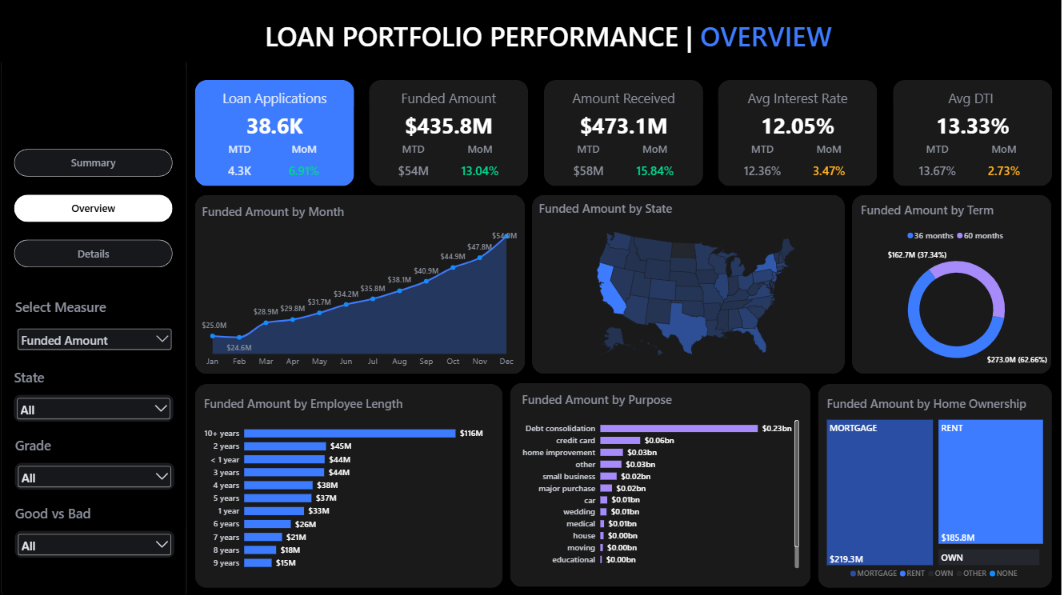

What the dashboard file says about the page in this screenshot:
{"tool":"powerbi","page":{"name":"Overview","canvas":[1920,1080],"ordinal":1},"visuals":[{"type":"shape","box":[2.1,104.3,336,976],"z":0},{"type":"shape","box":[352,144,288,192],"z":0,"group":"g2"},{"type":"shape","box":[668,144,288,192],"z":0,"group":"g3"},{"type":"shape","box":[984,144,288,192],"z":0,"group":"g4"},{"type":"shape","box":[1300,144,288,192],"z":0,"group":"g5"},{"type":"shape","box":[1616,144,288,192],"z":0,"group":"g6"},{"type":"shape","box":[964.3,352.7,566,323.5],"z":0,"group":"g12"},{"type":"shape","box":[1542.3,352.7,361,323.5],"z":0,"group":"g13"},{"type":"shape","box":[352.9,352.9,597,324],"z":0,"group":"g11"},{"type":"textbox","box":[26.8,540,288,35.5],"z":0,"group":"g1"},{"type":"slicer","fields":{"Values":["Select Measure.Select Measure"]},"box":[26.8,590.1,288,48],"z":0,"group":"g10"},{"type":"shape","box":[923.7,693.3,544,369.2],"z":0,"group":"g16"},{"type":"shape","box":[352.9,694.9,557,369.2],"z":0,"group":"g14"},{"type":"shape","box":[1480.3,694.9,423.5,369.2],"z":0,"group":"g15"},{"type":"slicer","fields":{"Values":["bank_loan.address_state"]},"box":[25,713.3,288,48],"z":0,"group":"g7"},{"type":"slicer","fields":{"Values":["bank_loan.grade"]},"box":[26.8,836.3,288,48],"z":0,"group":"g8"},{"type":"slicer","fields":{"Values":["bank_loan.Good vs Bad Loan"]},"box":[26.8,959.9,288,48],"z":0,"group":"g9"},{"type":"shape","box":[0,0,1920,112],"z":1000},{"type":"cardVisual","fields":{"Data":["bank_loan.Applications"]},"box":[352,192,288,64],"z":1000,"group":"g2"},{"type":"cardVisual","fields":{"Data":["bank_loan.Funded Amount"]},"box":[668,192,288,64],"z":1000,"group":"g3"},{"type":"cardVisual","fields":{"Data":["bank_loan.Amount Received"]},"box":[984,192,288,64],"z":1000,"group":"g4"},{"type":"cardVisual","fields":{"Data":["bank_loan.Avg Interest Rate"]},"box":[1300,192,288,64],"z":1000,"group":"g5"},{"type":"cardVisual","fields":{"Data":["bank_loan.Avg DTI"]},"box":[1616,192,288,64],"z":1000,"group":"g6"},{"type":"shapeMap","fields":{"Category":["bank_loan.address_state"],"Value":["bank_loan.Amount Received"]},"box":[960,347.7,585,324.3],"z":1000,"group":"g12"},{"type":"donutChart","fields":{"Category":["bank_loan.term"],"Y":["bank_loan.Amount Received"]},"box":[1542.3,350.6,377.7,344.3],"z":1000,"group":"g13"},{"type":"areaChart","fields":{"Category":["Date Table.Month"],"Y":["bank_loan.Amount Received"]},"box":[348.5,352.7,602.6,331.2],"z":1000,"group":"g11"},{"type":"group","id":"g1","title":"Group 3","box":[26.8,540,288,35.5],"z":1000,"group":"g10"},{"type":"textbox","box":[25,665.3,264,40],"z":1000,"group":"g7"},{"type":"treemap","fields":{"Group":["bank_loan.home_ownership"],"Values":["bank_loan.Amount Received"]},"box":[1480,700,423.5,367.4],"z":1000,"group":"g15"},{"type":"barChart","fields":{"Category":["bank_loan.emp_length"],"Y":["bank_loan.Amount Received"]},"box":[352.9,700.3,537.5,351.1],"z":1000,"group":"g14"},{"type":"textbox","box":[26.8,788.3,264,40],"z":1000,"group":"g8"},{"type":"textbox","box":[26.8,911.9,264,40],"z":1000,"group":"g9"},{"type":"textbox","box":[336,32,1312,80],"z":2000},{"type":"textbox","box":[352,160,288,32],"z":2000,"group":"g2"},{"type":"textbox","box":[668,160,288,32],"z":2000,"group":"g3"},{"type":"textbox","box":[984,160,288,32],"z":2000,"group":"g4"},{"type":"textbox","box":[1300,160,288,32],"z":2000,"group":"g5"},{"type":"textbox","box":[1616,160,288,32],"z":2000,"group":"g6"},{"type":"barChart","fields":{"Category":["bank_loan.purpose"],"Y":["bank_loan.Amount Received"]},"box":[928.8,693.9,533.8,351.1],"z":2000,"group":"g16"},{"type":"group","id":"g2","title":"Group 1","box":[352,144,288,192],"z":3000},{"type":"cardVisual","title":"MTD","fields":{"Data":["bank_loan.MTD Loan Applications"]},"box":[384,256,96,64],"z":3000,"group":"g2"},{"type":"cardVisual","title":"MTD","fields":{"Data":["bank_loan.MTD Funded Amount"]},"box":[684,256,128,64],"z":3000,"group":"g3"},{"type":"cardVisual","title":"MTD","fields":{"Data":["bank_loan.MTD Amount Received"]},"box":[1000,256,128,64],"z":3000,"group":"g4"},{"type":"cardVisual","title":"MTD","fields":{"Data":["bank_loan.MTD Avg Interest Rate"]},"box":[1316,256,128,64],"z":3000,"group":"g5"},{"type":"cardVisual","title":"MTD","fields":{"Data":["bank_loan.MTD Avg DTI"]},"box":[1632,256,128,64],"z":3000,"group":"g6"},{"type":"group","id":"g3","title":"Group 1","box":[668,144,288,192],"z":4000},{"type":"cardVisual","title":"MoM","fields":{"Data":["bank_loan.MoM Loan Application"]},"box":[503.6,256,90.9,64],"z":4000,"group":"g2"},{"type":"cardVisual","title":"MoM","fields":{"Data":["bank_loan.MoM Funded Amount"]},"box":[812,256,112,64],"z":4000,"group":"g3"},{"type":"cardVisual","title":"MoM","fields":{"Data":["bank_loan.MoM Amount Received"]},"box":[1128,256,112,64],"z":4000,"group":"g4"},{"type":"cardVisual","title":"MoM","fields":{"Data":["bank_loan.MoM Avg Interest Ratet"]},"box":[1444,256,112,64],"z":4000,"group":"g5"},{"type":"cardVisual","title":"MoM","fields":{"Data":["bank_loan.MoM Avg DTI"]},"box":[1760,256,112,64],"z":4000,"group":"g6"},{"type":"group","id":"g4","title":"Group 1","box":[984,144,288,192],"z":5000},{"type":"group","id":"g5","title":"Group 1","box":[1300,144,288,192],"z":6000},{"type":"group","id":"g6","title":"Group 1","box":[1616,144,288,192],"z":7000},{"type":"group","id":"g7","title":"Group 3","box":[25,665.3,288,96],"z":8000},{"type":"group","id":"g8","title":"Group 3","box":[26.8,788.3,287.9,96.6],"z":9000},{"type":"group","id":"g9","title":"Group 3","box":[26.8,911.9,287.9,96.6],"z":10000},{"type":"group","id":"g10","title":"Group 4","box":[26.8,540,287.9,98.3],"z":11000},{"type":"group","id":"g11","title":"Group 2","box":[348.5,352.7,602.6,331.2],"z":12000},{"type":"group","id":"g12","title":"Group 5","box":[960,347.7,584.5,328.5],"z":13000},{"type":"group","id":"g13","title":"Group 6","box":[1542.3,350.6,377.7,344.3],"z":14000},{"type":"group","id":"g14","title":"Group 7","box":[352.9,694.9,557,369.2],"z":15000},{"type":"group","id":"g15","title":"Group 8","box":[1480,694.9,423.8,372.5],"z":16000},{"type":"group","id":"g16","title":"Group 9","box":[923.7,693.3,544,369.2],"z":17000},{"type":"pageNavigator","box":[25.3,269.6,287.7,215.3],"z":18000}]}

Visuals, with their boxes in screenshot pixels (x1, y1, x2, y2), scaled from the page's 1920x1080 canvas onto the 1062x595 screenshot:
shape: (x1=1, y1=57, x2=187, y2=594)
shape: (x1=195, y1=79, x2=354, y2=185)
shape: (x1=369, y1=79, x2=529, y2=185)
shape: (x1=544, y1=79, x2=704, y2=185)
shape: (x1=719, y1=79, x2=878, y2=185)
shape: (x1=894, y1=79, x2=1053, y2=185)
shape: (x1=533, y1=194, x2=846, y2=373)
shape: (x1=853, y1=194, x2=1053, y2=373)
shape: (x1=195, y1=194, x2=525, y2=373)
textbox: (x1=15, y1=298, x2=174, y2=317)
slicer - Select Measure.Select Measure: (x1=15, y1=325, x2=174, y2=352)
shape: (x1=511, y1=382, x2=812, y2=585)
shape: (x1=195, y1=383, x2=503, y2=586)
shape: (x1=819, y1=383, x2=1053, y2=586)
slicer - bank_loan.address_state: (x1=14, y1=393, x2=173, y2=419)
slicer - bank_loan.grade: (x1=15, y1=461, x2=174, y2=487)
slicer - bank_loan.Good vs Bad Loan: (x1=15, y1=529, x2=174, y2=555)
shape: (x1=0, y1=0, x2=1061, y2=62)
cardVisual - bank_loan.Applications: (x1=195, y1=106, x2=354, y2=141)
cardVisual - bank_loan.Funded Amount: (x1=369, y1=106, x2=529, y2=141)
cardVisual - bank_loan.Amount Received: (x1=544, y1=106, x2=704, y2=141)
cardVisual - bank_loan.Avg Interest Rate: (x1=719, y1=106, x2=878, y2=141)
cardVisual - bank_loan.Avg DTI: (x1=894, y1=106, x2=1053, y2=141)
shapeMap - bank_loan.address_state x bank_loan.Amount Received: (x1=531, y1=192, x2=855, y2=370)
donutChart - bank_loan.term x bank_loan.Amount Received: (x1=853, y1=193, x2=1061, y2=383)
areaChart - Date Table.Month x bank_loan.Amount Received: (x1=193, y1=194, x2=526, y2=377)
"Group 3" group: (x1=15, y1=298, x2=174, y2=317)
textbox: (x1=14, y1=367, x2=160, y2=389)
treemap - bank_loan.home_ownership x bank_loan.Amount Received: (x1=819, y1=386, x2=1053, y2=588)
barChart - bank_loan.emp_length x bank_loan.Amount Received: (x1=195, y1=386, x2=493, y2=579)
textbox: (x1=15, y1=434, x2=161, y2=456)
textbox: (x1=15, y1=502, x2=161, y2=524)
textbox: (x1=186, y1=18, x2=912, y2=62)
textbox: (x1=195, y1=88, x2=354, y2=106)
textbox: (x1=369, y1=88, x2=529, y2=106)
textbox: (x1=544, y1=88, x2=704, y2=106)
textbox: (x1=719, y1=88, x2=878, y2=106)
textbox: (x1=894, y1=88, x2=1053, y2=106)
barChart - bank_loan.purpose x bank_loan.Amount Received: (x1=514, y1=382, x2=809, y2=576)
"Group 1" group: (x1=195, y1=79, x2=354, y2=185)
"MTD" cardVisual: (x1=212, y1=141, x2=266, y2=176)
"MTD" cardVisual: (x1=378, y1=141, x2=449, y2=176)
"MTD" cardVisual: (x1=553, y1=141, x2=624, y2=176)
"MTD" cardVisual: (x1=728, y1=141, x2=799, y2=176)
"MTD" cardVisual: (x1=903, y1=141, x2=974, y2=176)
"Group 1" group: (x1=369, y1=79, x2=529, y2=185)
"MoM" cardVisual: (x1=279, y1=141, x2=329, y2=176)
"MoM" cardVisual: (x1=449, y1=141, x2=511, y2=176)
"MoM" cardVisual: (x1=624, y1=141, x2=686, y2=176)
"MoM" cardVisual: (x1=799, y1=141, x2=861, y2=176)
"MoM" cardVisual: (x1=974, y1=141, x2=1035, y2=176)
"Group 1" group: (x1=544, y1=79, x2=704, y2=185)
"Group 1" group: (x1=719, y1=79, x2=878, y2=185)
"Group 1" group: (x1=894, y1=79, x2=1053, y2=185)
"Group 3" group: (x1=14, y1=367, x2=173, y2=419)
"Group 3" group: (x1=15, y1=434, x2=174, y2=488)
"Group 3" group: (x1=15, y1=502, x2=174, y2=556)
"Group 4" group: (x1=15, y1=298, x2=174, y2=352)
"Group 2" group: (x1=193, y1=194, x2=526, y2=377)
"Group 5" group: (x1=531, y1=192, x2=854, y2=373)
"Group 6" group: (x1=853, y1=193, x2=1061, y2=383)
"Group 7" group: (x1=195, y1=383, x2=503, y2=586)
"Group 8" group: (x1=819, y1=383, x2=1053, y2=588)
"Group 9" group: (x1=511, y1=382, x2=812, y2=585)
pageNavigator: (x1=14, y1=149, x2=173, y2=267)
